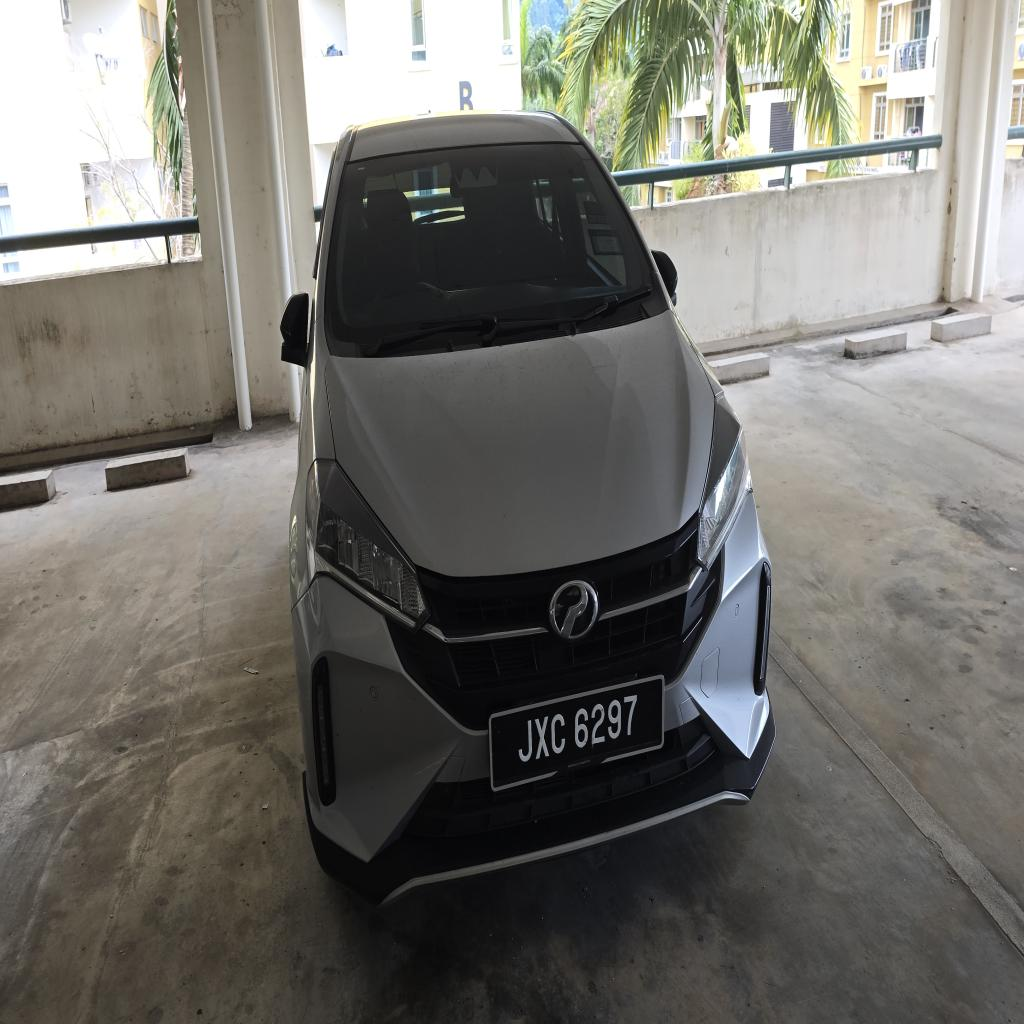car: (282, 113, 774, 902)
car plate: (490, 677, 664, 790)
